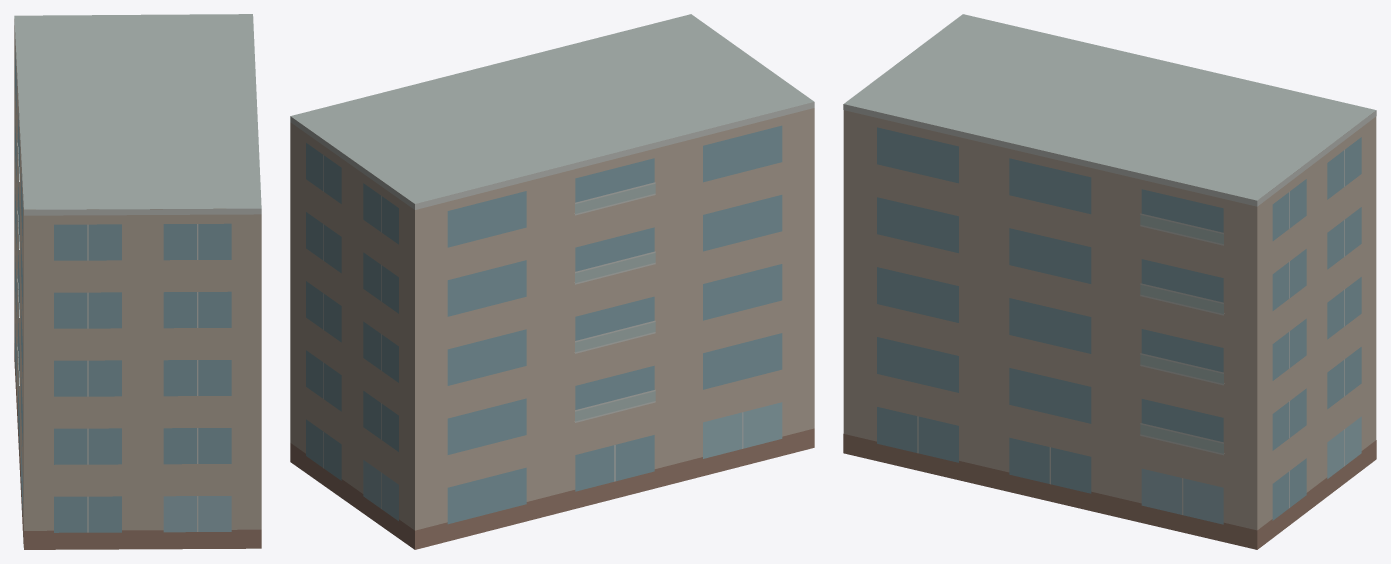
File: survey-upis-32876008.glb
The picture shows the model from 3 angles, left to right: view 1: azimuth 30°, elevation 25°; view 2: azimuth 150°, elevation 25°; view 3: azimuth 270°, elevation 25°; orthographic projection. The views are drawn at different scales.
Visible parts, largest first — view 1: survey-upis-32876008.tmp; view 2: survey-upis-32876008.tmp; view 3: survey-upis-32876008.tmp.
Boxes of the visible parts, x1,y1,x2,y2 form: survey-upis-32876008.tmp: (14,14,261,549); survey-upis-32876008.tmp: (290,14,814,549); survey-upis-32876008.tmp: (843,14,1376,549).
Bounding box in the file's own units: 16.11 × 14.05 × 19.44.
